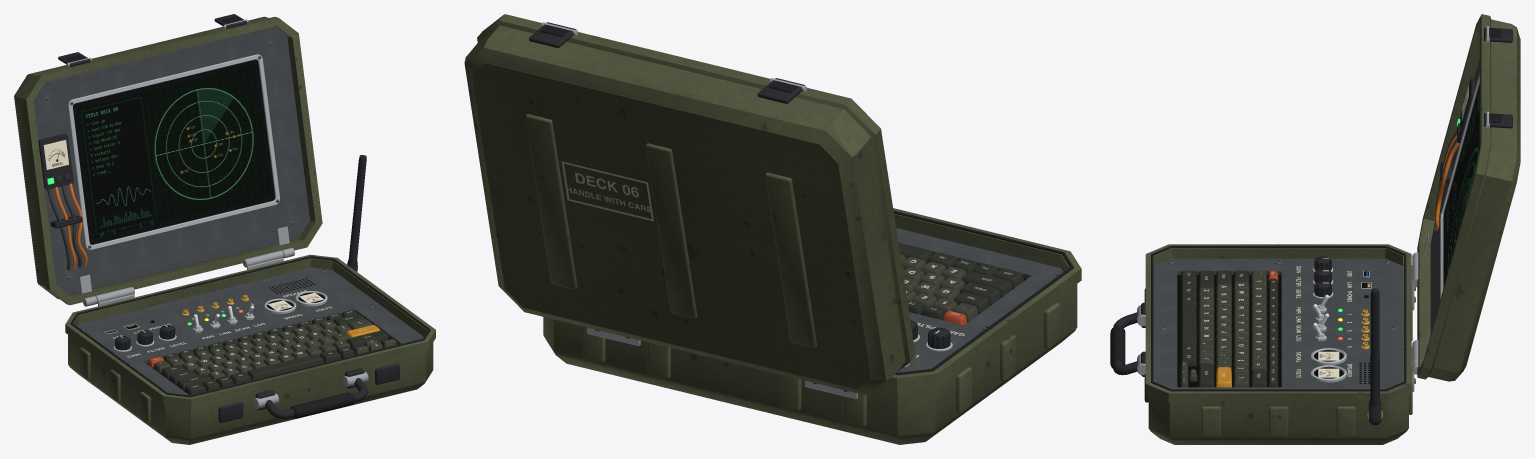
File: cyberdeck.glb
3 views of the same model, side by side, from view 1: azimuth 30°, elevation 25°; view 2: azimuth 150°, elevation 25°; view 3: azimuth 270°, elevation 25° (orthographic). The views are drawn at different scales.
Parts seen in each view (by area): view 1: Lid, Base, Handle, Antenna; view 2: Lid, Base, Latch_R, Latch_L; view 3: Base, Lid, Antenna, Handle, Latch_R, Latch_L.
Part boxes in pixels (x1,y1,x2,y2): Lid: (14, 16, 322, 306); Base: (65, 250, 435, 444); Handle: (253, 371, 368, 419); Antenna: (347, 155, 366, 271); Lid: (464, 14, 915, 395); Base: (543, 208, 1081, 444); Latch_R: (529, 22, 578, 47); Latch_L: (757, 78, 806, 103); Base: (1141, 244, 1418, 444); Lid: (1412, 14, 1520, 381); Antenna: (1368, 288, 1381, 425); Handle: (1110, 305, 1145, 375); Latch_R: (1484, 111, 1512, 128); Latch_L: (1484, 26, 1512, 42).
Size of the model in its own units: 0.3967 by 0.3496 by 0.4254.
Materials: 26 (8 with a texture image).
